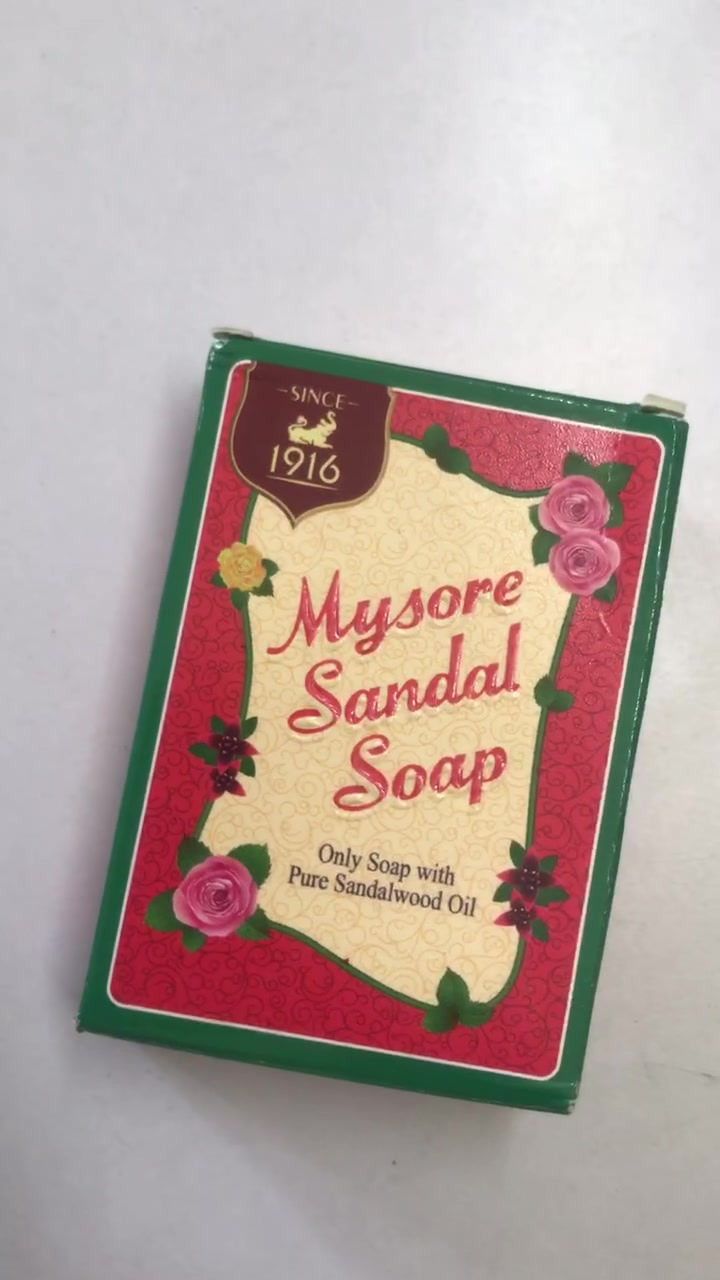mysore sandal soap: (76, 327, 684, 1114)
